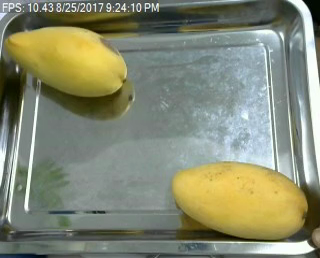Mango: (172, 156, 310, 242), (2, 22, 126, 99)
